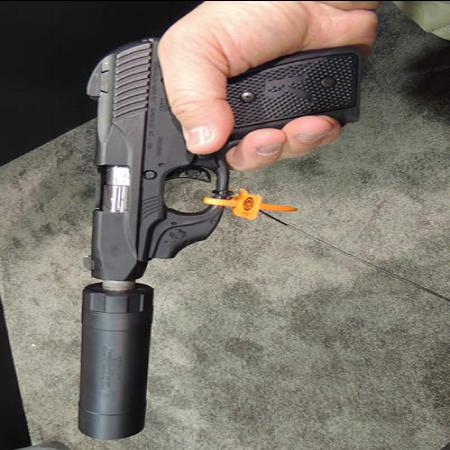Pistol: (82, 29, 360, 287)
